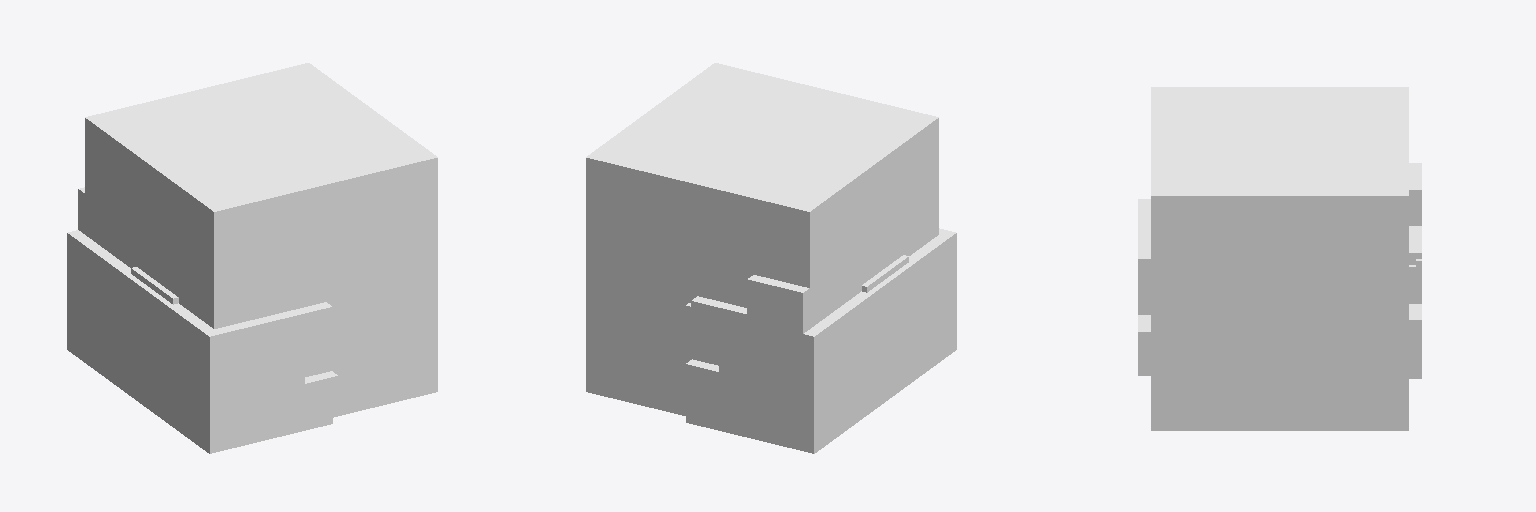
The model's file is papaNoel-12-head.obj.
The picture shows the model from 3 angles: view 1: azimuth 30°, elevation 25°; view 2: azimuth 150°, elevation 25°; view 3: azimuth 270°, elevation 25°; orthographic projection.
Visible parts, largest first — view 1: head; view 2: head; view 3: head.
Boxes of the visible parts, <box> form: head: <box>67,63,437,453</box>; head: <box>586,63,956,453</box>; head: <box>1138,87,1421,430</box>.
Bounding box in the file's own units: 4.2 × 4 × 4.4.